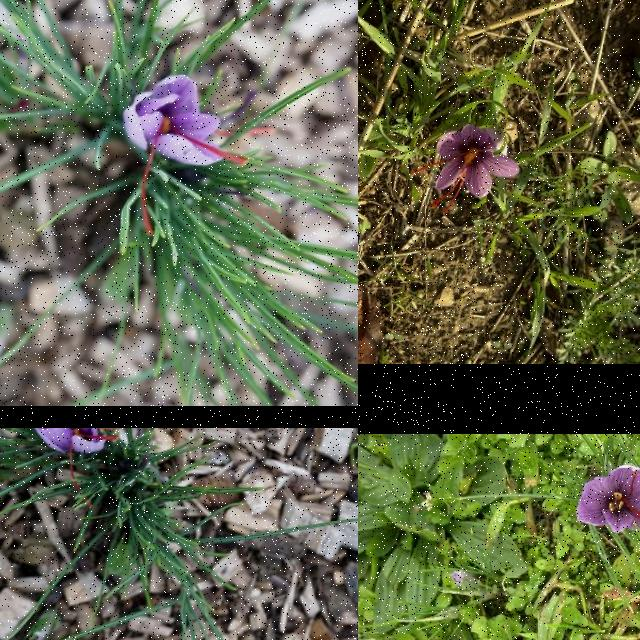flower: (126, 76, 276, 236), (409, 122, 521, 215), (32, 428, 159, 509), (576, 463, 640, 534)
